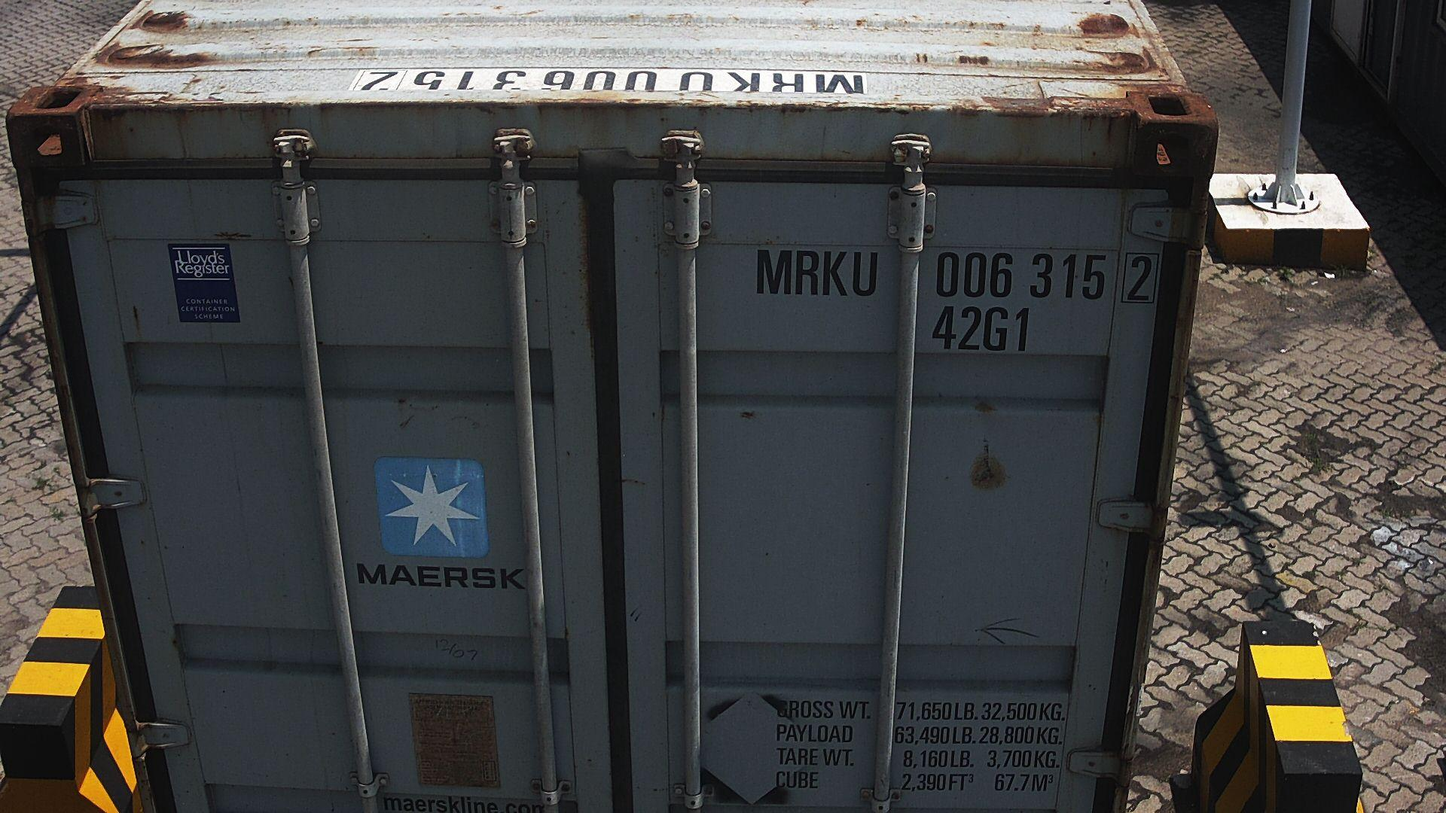container-numbers: (748, 245, 1163, 308), (348, 66, 872, 98), (929, 304, 1037, 356)
